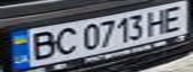0: (78, 20, 103, 51)
1: (115, 15, 133, 43)
3: (127, 11, 148, 40)
7: (97, 18, 118, 47)
B: (21, 29, 60, 62)
C: (48, 25, 81, 56)
E: (157, 2, 193, 34)
H: (142, 7, 172, 36)
